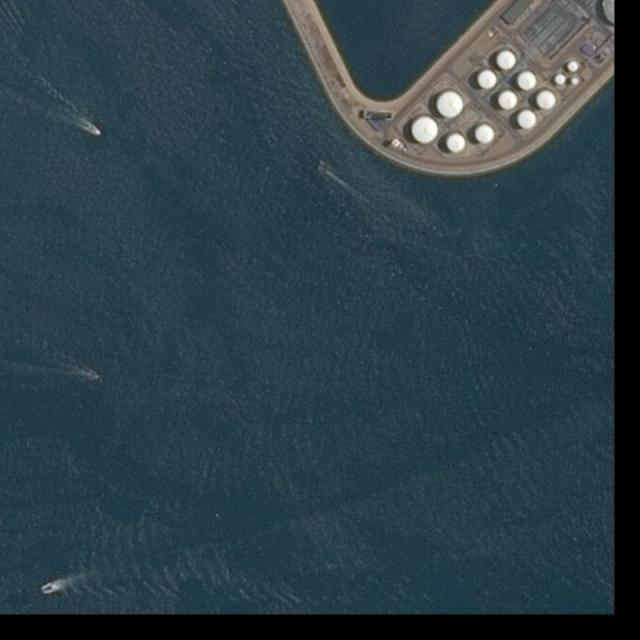ship: (316, 158, 331, 171), (91, 126, 100, 138), (314, 165, 326, 174), (90, 373, 101, 380), (42, 585, 52, 592)
